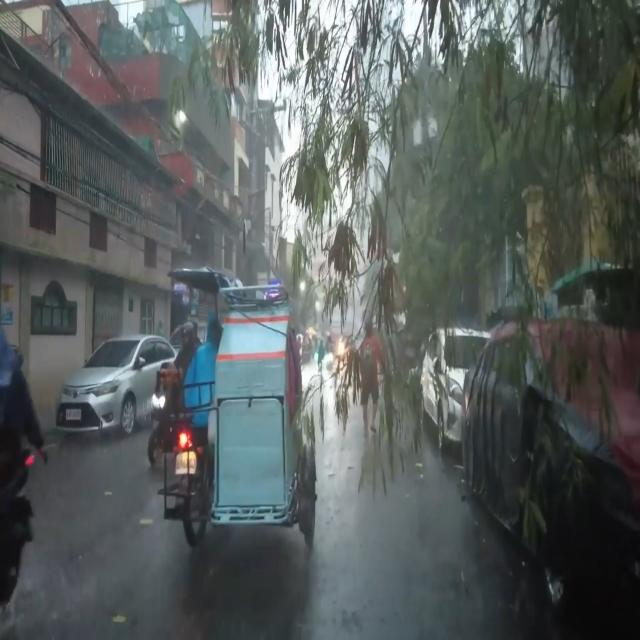full: (180, 322, 194, 348)
